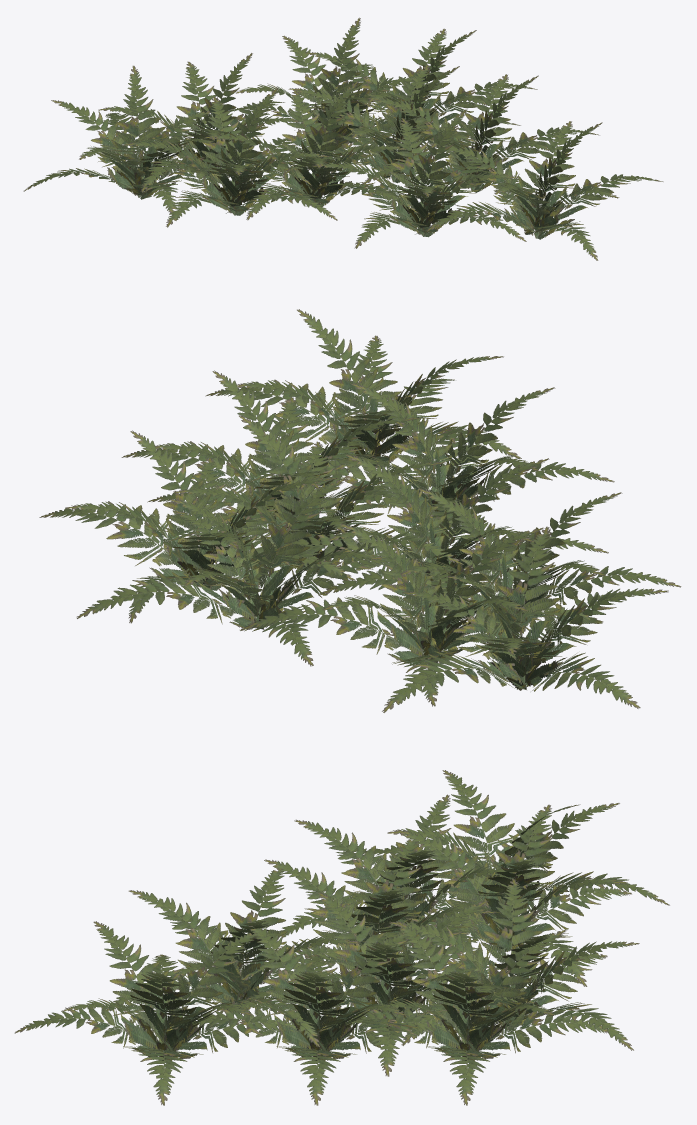
Rendered from fern_grass_01.glb.
3 renders of one model, top to bottom at view 1: azimuth 30°, elevation 25°; view 2: azimuth 150°, elevation 25°; view 3: azimuth 270°, elevation 25°, orthographic. The views are drawn at different scales.
Visible parts, largest first — view 1: Object_2; view 2: Object_2; view 3: Object_2.
Boxes of the visible parts, x1,y1,x2,y2 form: Object_2: (23,17,663,260); Object_2: (39,309,681,712); Object_2: (14,770,669,1105).
Size of the model in its own units: 15.27 by 3.36 by 15.
Materials: 1 (1 with a texture image).
